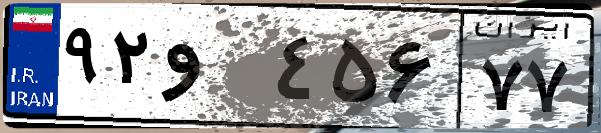2: (110, 28, 158, 98)
4: (270, 28, 330, 110)
5: (330, 28, 385, 110)
6: (385, 28, 445, 110)
7: (475, 38, 525, 113), (525, 38, 570, 115)
9: (57, 26, 110, 100)
و: (158, 20, 270, 120)
